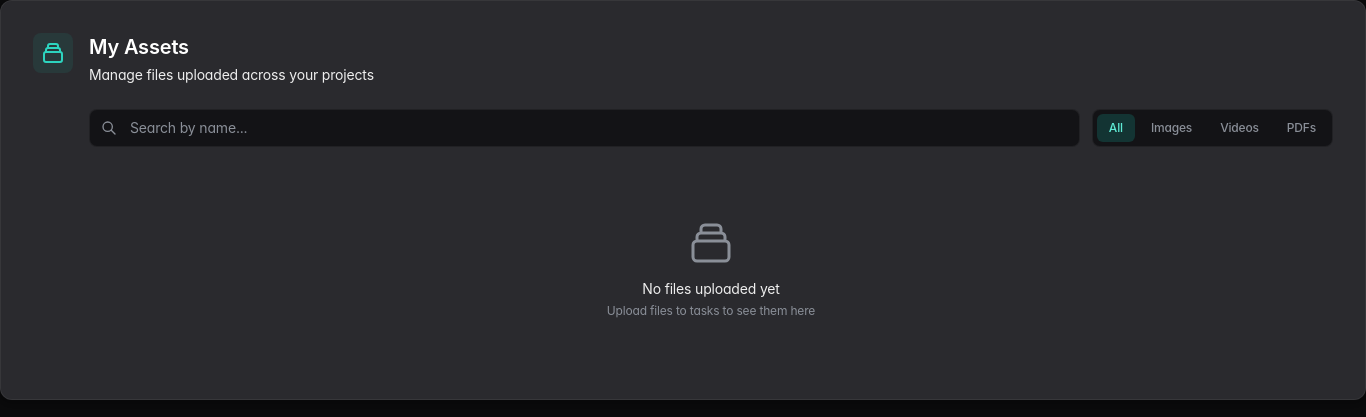
Test case: MyAssets › shows filter message when empty with active filters
The width and height of the screenshot is (1366, 417).
expect the text "No files uploaded yet" is shown: met, box [642, 280, 780, 297]
# Click the Images filter
Step 1. Click the button "Images" → (1172,128), box [1139, 114, 1204, 142]
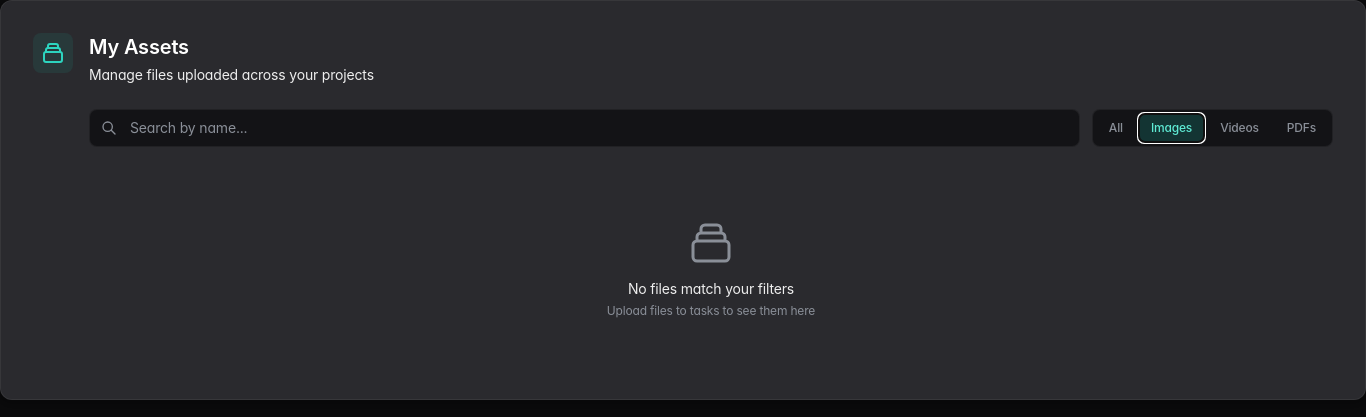
expect the text "No files match your filters" is shown: met, box [628, 280, 794, 297]
